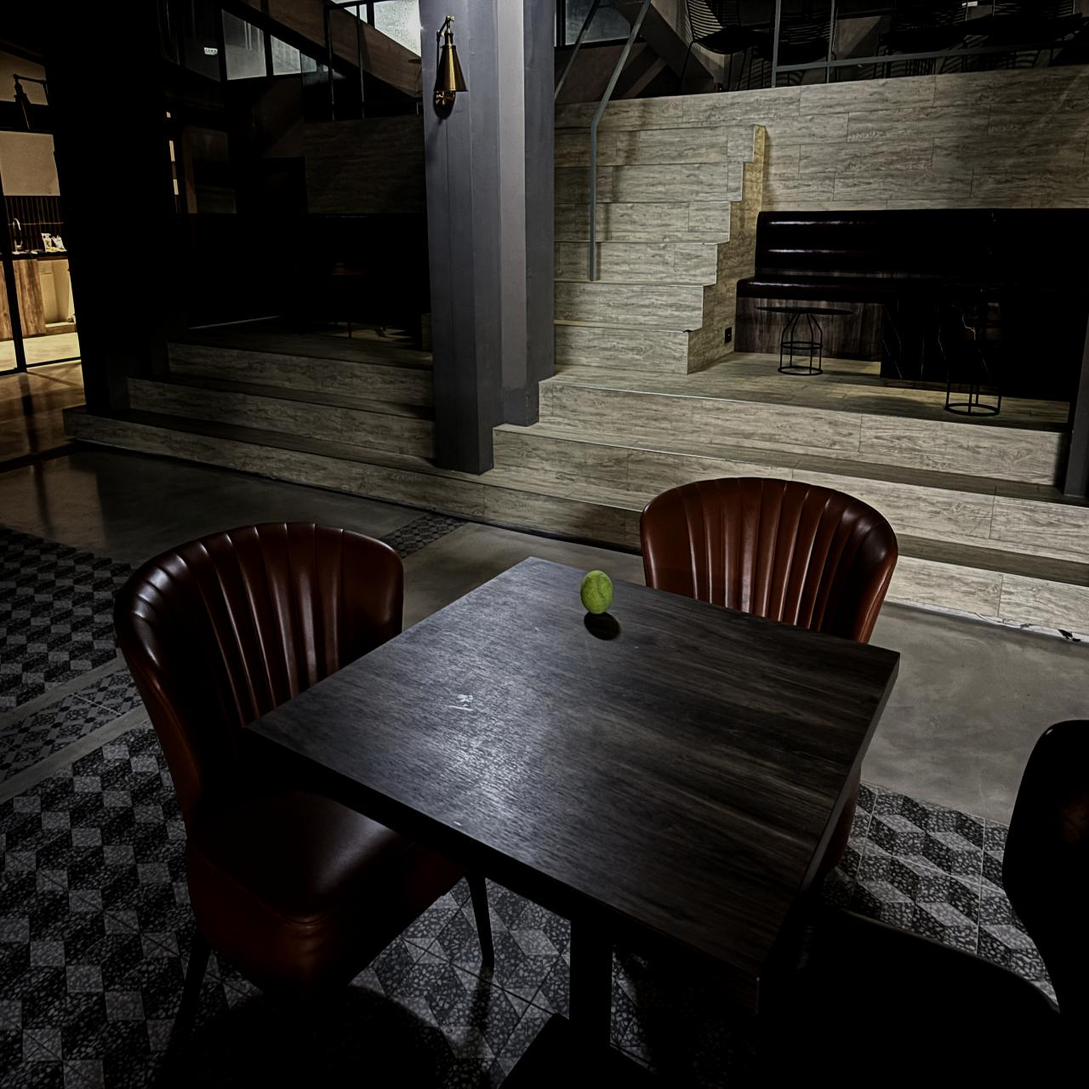tennisball: (581, 571, 613, 614)
